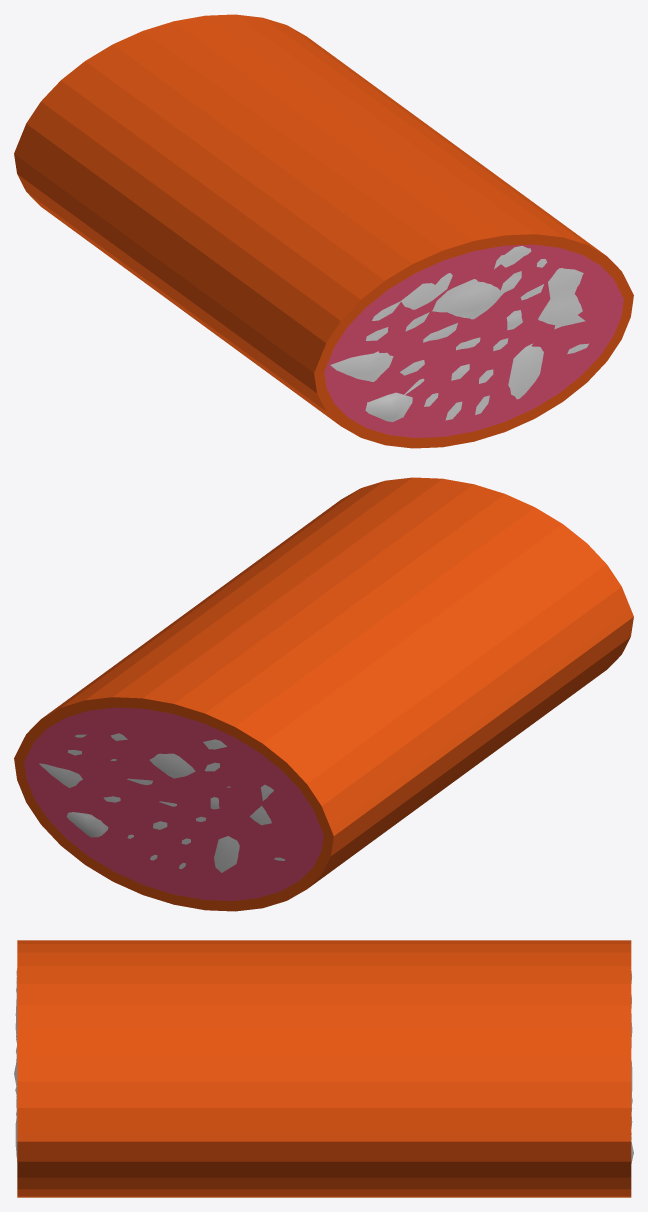
The model's file is PorkShoulderWithoutCrackling.fbx.
3 renders of one model, top to bottom at view 1: azimuth 30°, elevation 25°; view 2: azimuth 150°, elevation 25°; view 3: azimuth 270°, elevation 25°, orthographic. The views are drawn at different scales.
Visible parts, largest first — view 1: PorkShoulderWithoutCrackling, PorkMarbling1.001; view 2: PorkShoulderWithoutCrackling, PorkMarbling.001; view 3: PorkShoulderWithoutCrackling, PorkMarbling1.001.
Part boxes in pixels (bbox=[...]): PorkShoulderWithoutCrackling: bbox=[14, 14, 633, 448]; PorkMarbling1.001: bbox=[330, 246, 588, 421]; PorkShoulderWithoutCrackling: bbox=[14, 477, 633, 911]; PorkMarbling.001: bbox=[39, 733, 285, 872]; PorkShoulderWithoutCrackling: bbox=[17, 940, 631, 1197]; PorkMarbling1.001: bbox=[14, 968, 17, 1161].
Size of the model in its own units: 185 by 111 by 303.
